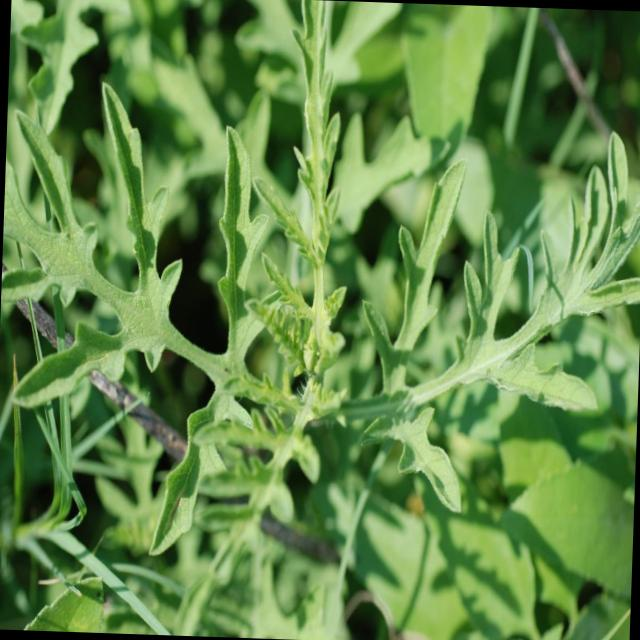ambrosia: (50, 113, 568, 518)
